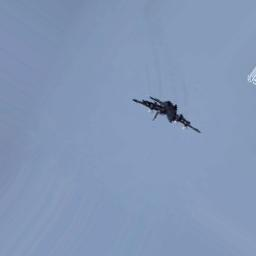Airplane: (132, 94, 201, 134)
